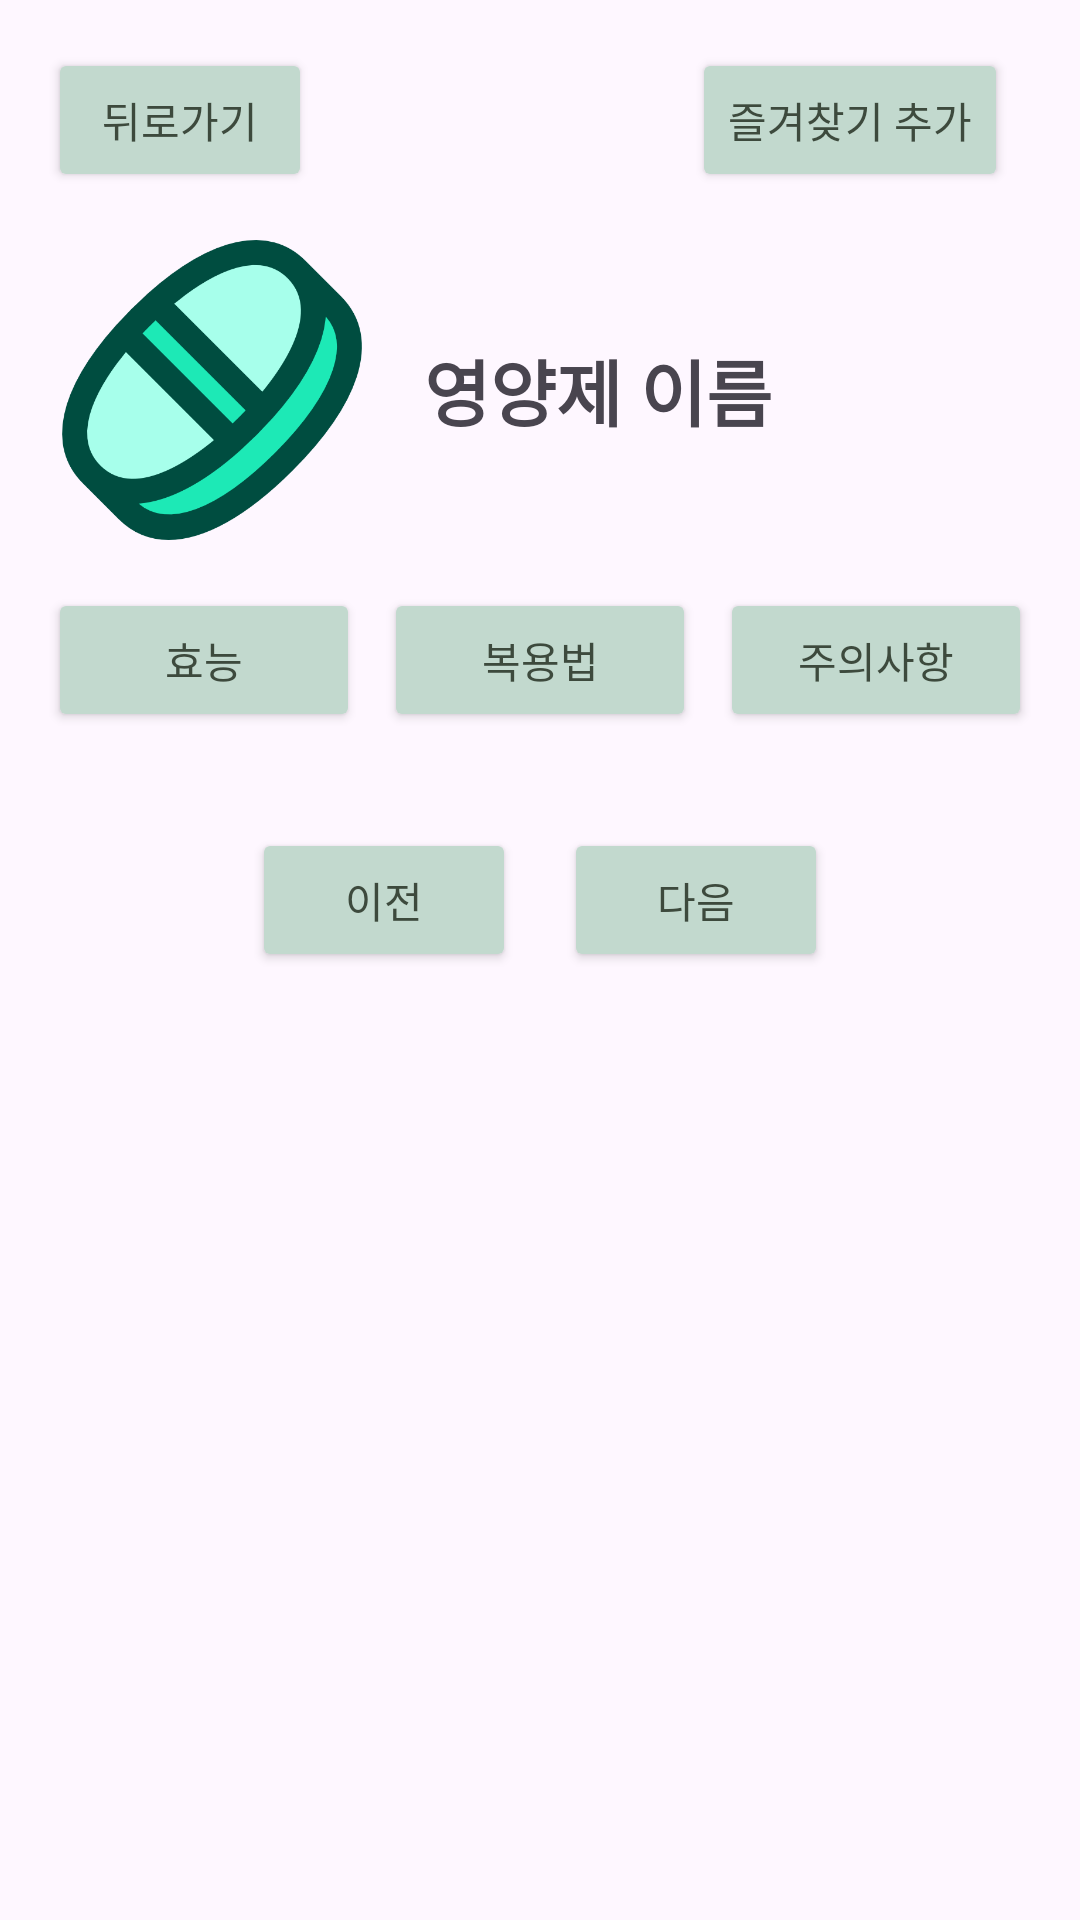

Screen size 1080×1920. Icon name, then its center in pixels as (x=x, y=y):
supplement: (x=212, y=390)
